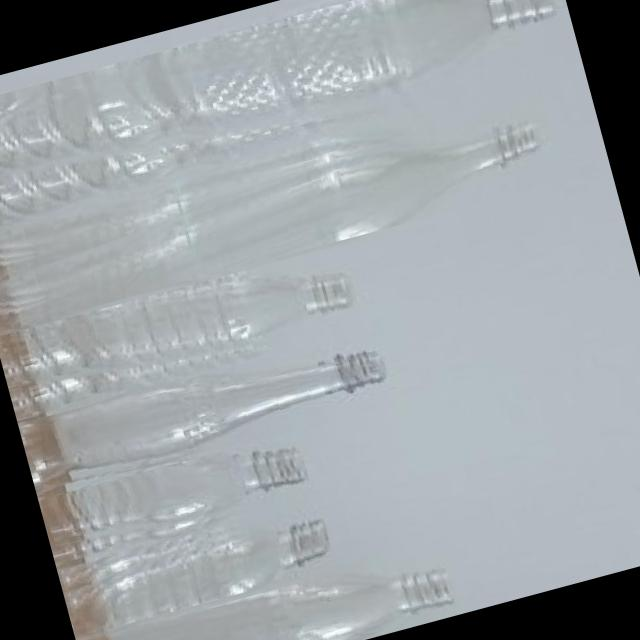plastic bottle: (0, 0, 569, 237), (0, 89, 550, 333), (17, 328, 395, 502), (0, 244, 364, 422), (56, 498, 335, 637), (37, 432, 314, 570), (75, 545, 457, 640)
